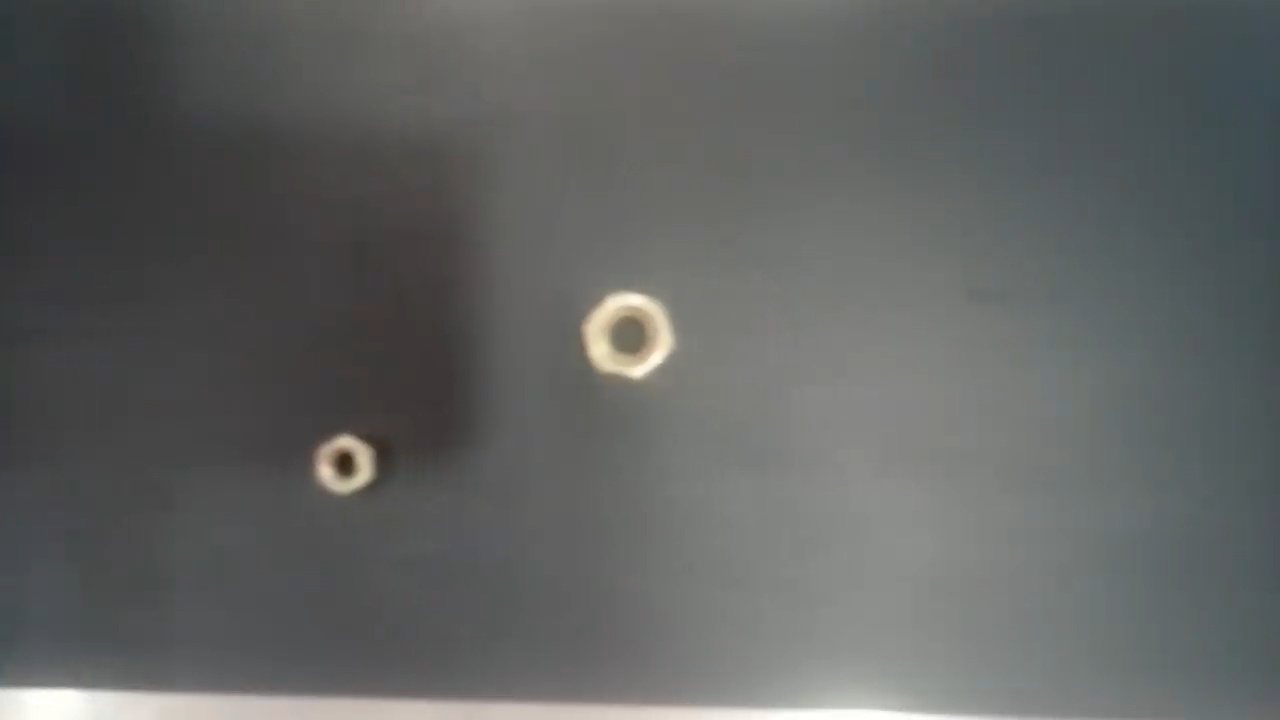Bolt: (578, 288, 680, 383), (311, 433, 384, 498)
